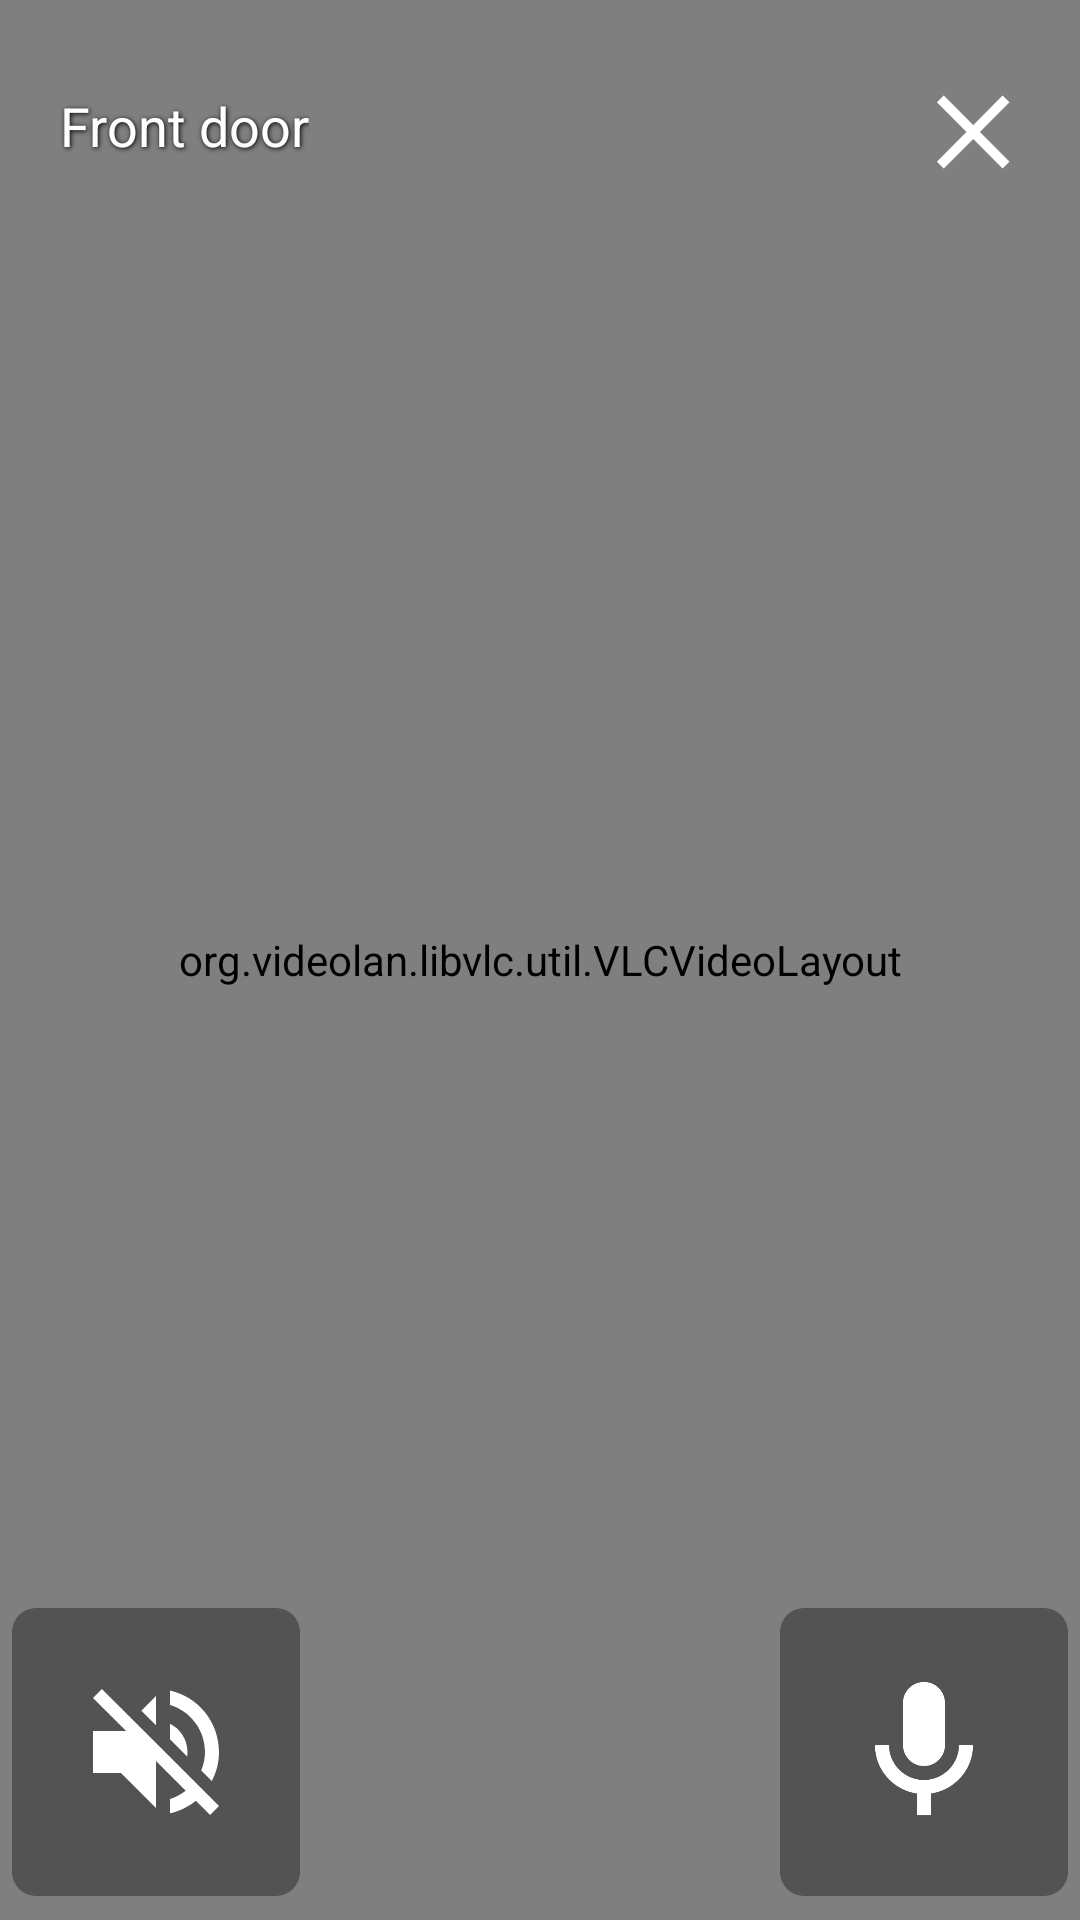

Icon bounding boxes for this 1080x1920 phone screenshot, format {"left": x1, "top": y1, "right": x2, "bottom": y2}:
Mute / unmute audio: {"left": 12, "top": 1608, "right": 300, "bottom": 1896}
Talk to door: {"left": 780, "top": 1608, "right": 1068, "bottom": 1896}
